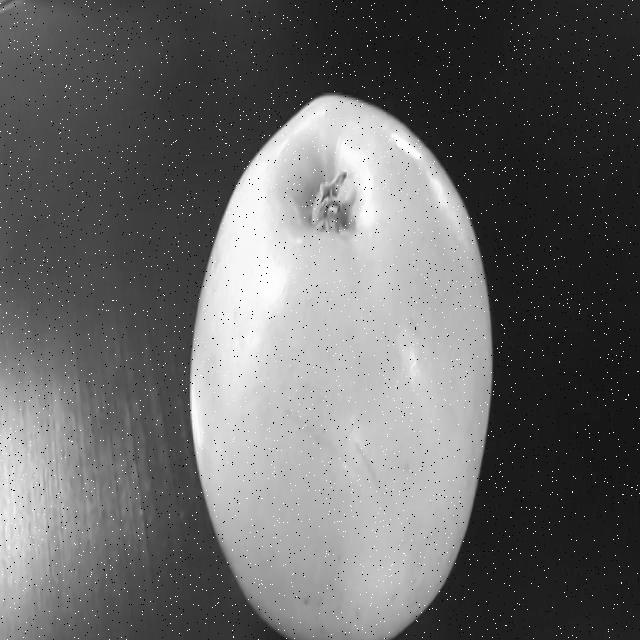Apel Gala: (186, 86, 490, 640)
